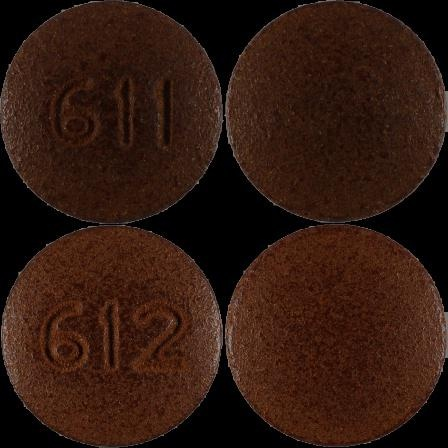51293-611: (0, 0, 224, 224)
